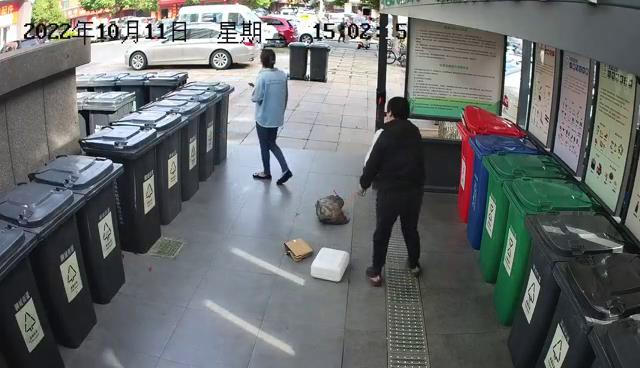paomozhipin: (309, 246, 351, 283)
person: (357, 95, 426, 287), (283, 237, 313, 264)
suliaozhipin: (314, 193, 351, 228)
worker: (247, 48, 293, 185)
